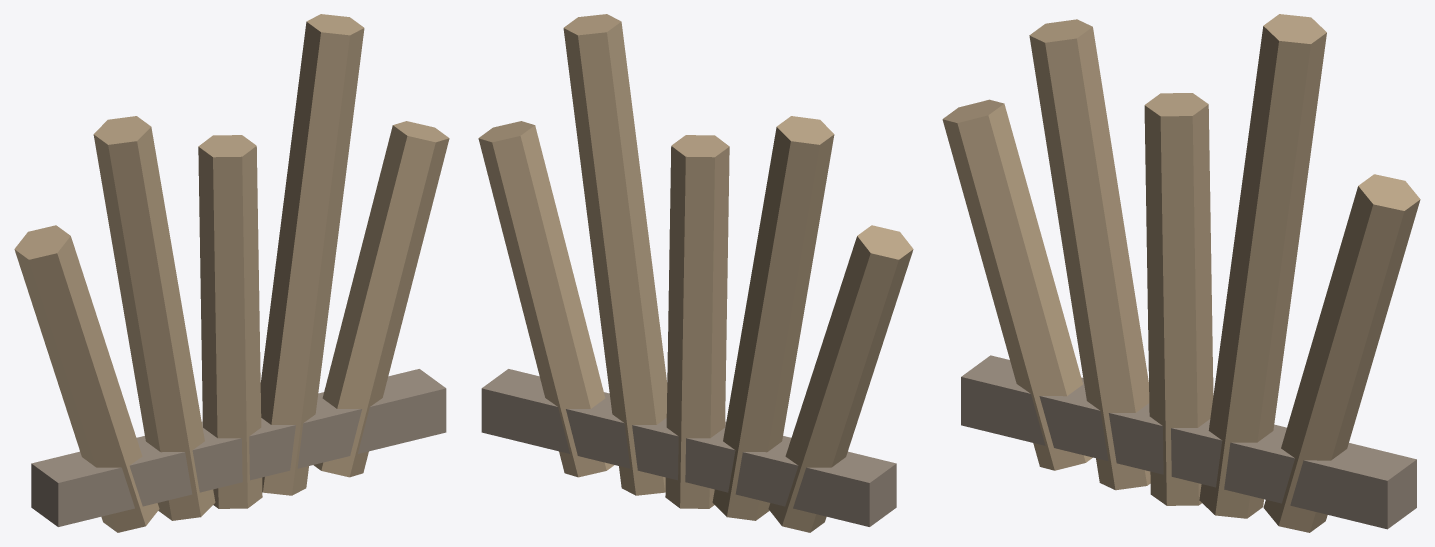
File: wreck_rib_near-C4FPyTWm.glb
The picture shows the model from 3 angles, left to right: view 1: azimuth 30°, elevation 25°; view 2: azimuth 150°, elevation 25°; view 3: azimuth 330°, elevation 25°; orthographic projection. The views are drawn at different scales.
Visible parts, largest first — view 1: wreck_rib_near; view 2: wreck_rib_near; view 3: wreck_rib_near.
Boxes of the visible parts, left/top/right/bottom form: wreck_rib_near: left=14, top=14, right=449, bottom=532; wreck_rib_near: left=478, top=14, right=913, bottom=532; wreck_rib_near: left=942, top=14, right=1420, bottom=532.
Size of the model in its own units: 9.97 by 10.25 by 1.2.
